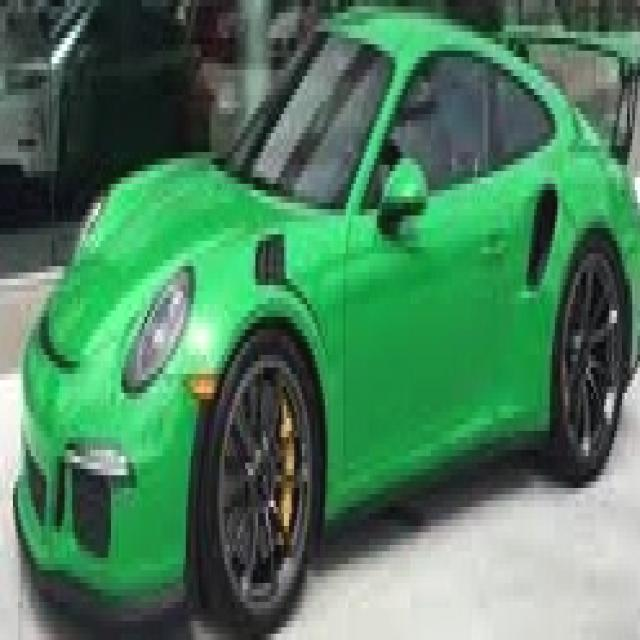green: (23, 1, 620, 636)
